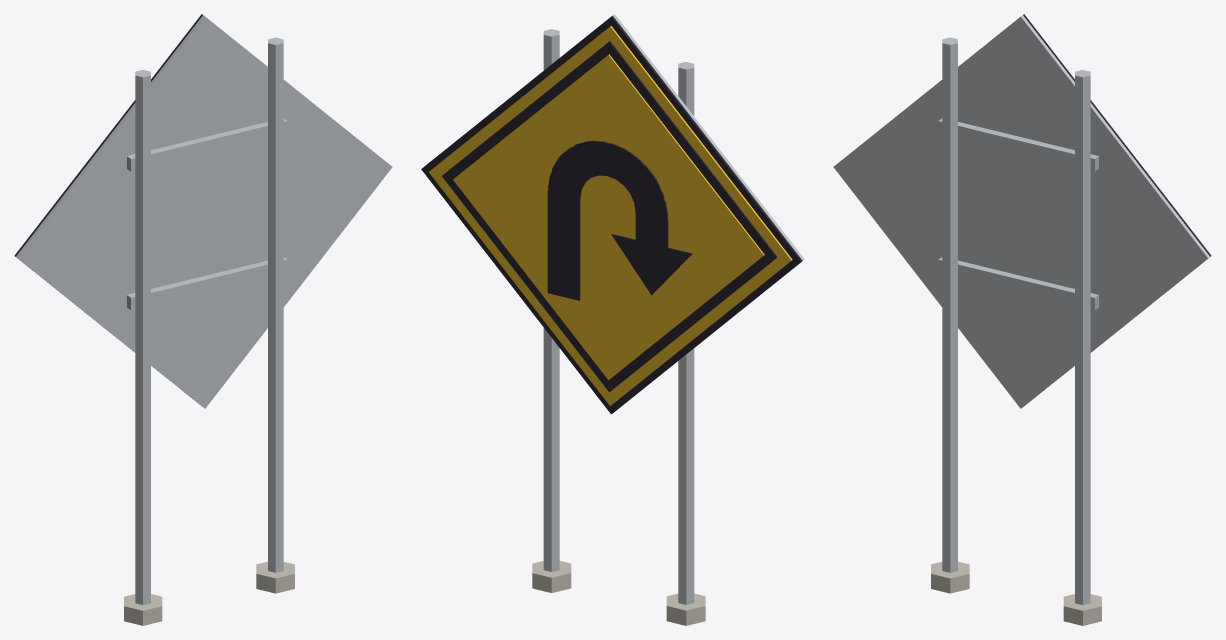
Rendered from corner_warn_hairpin_right.glb.
The picture shows the model from 3 angles, left to right: view 1: azimuth 30°, elevation 25°; view 2: azimuth 150°, elevation 25°; view 3: azimuth 330°, elevation 25°; orthographic projection.
Visible parts, largest first — view 1: corner_warn_hairpin_right; view 2: corner_warn_hairpin_right; view 3: corner_warn_hairpin_right.
Part boxes in pixels (x1,y1,x2,y2): corner_warn_hairpin_right: [14, 14, 392, 625]; corner_warn_hairpin_right: [421, 14, 804, 625]; corner_warn_hairpin_right: [833, 14, 1211, 625].
Size of the model in its own units: 3.11 by 4.61 by 0.2996.
